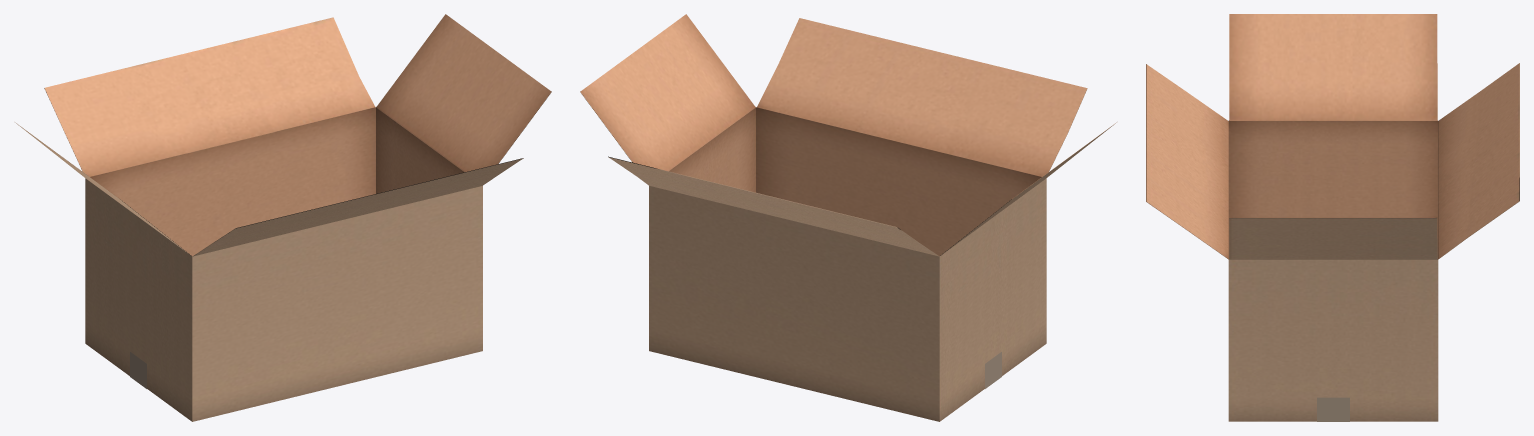
Rendered from sweethome3d-scopia-open-cardboard-box.glb.
The picture shows the model from 3 angles, left to right: view 1: azimuth 30°, elevation 25°; view 2: azimuth 150°, elevation 25°; view 3: azimuth 270°, elevation 25°; orthographic projection. The views are drawn at different scales.
Parts seen in each view (by area): view 1: Cube_Cube.001; view 2: Cube_Cube.001; view 3: Cube_Cube.001, Plane.001.
Boxes of the visible parts, x1=… form: Cube_Cube.001: x1=15, y1=14, x2=551, y2=421; Cube_Cube.001: x1=580, y1=14, x2=1116, y2=421; Cube_Cube.001: x1=1146, y1=14, x2=1519, y2=421; Plane.001: x1=1317, y1=397, x2=1349, y2=421.
Bounding box in the file's own units: 81.51 × 43.72 × 62.47.
Materials: 2 (1 with a texture image).
